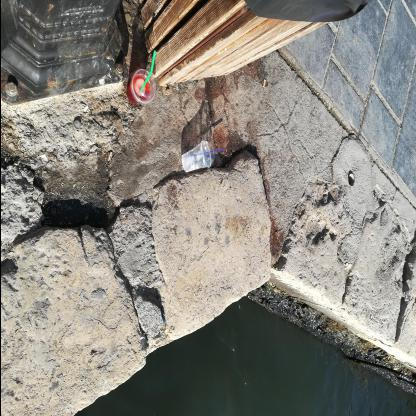plastik: (126, 50, 158, 106), (181, 141, 227, 175)
